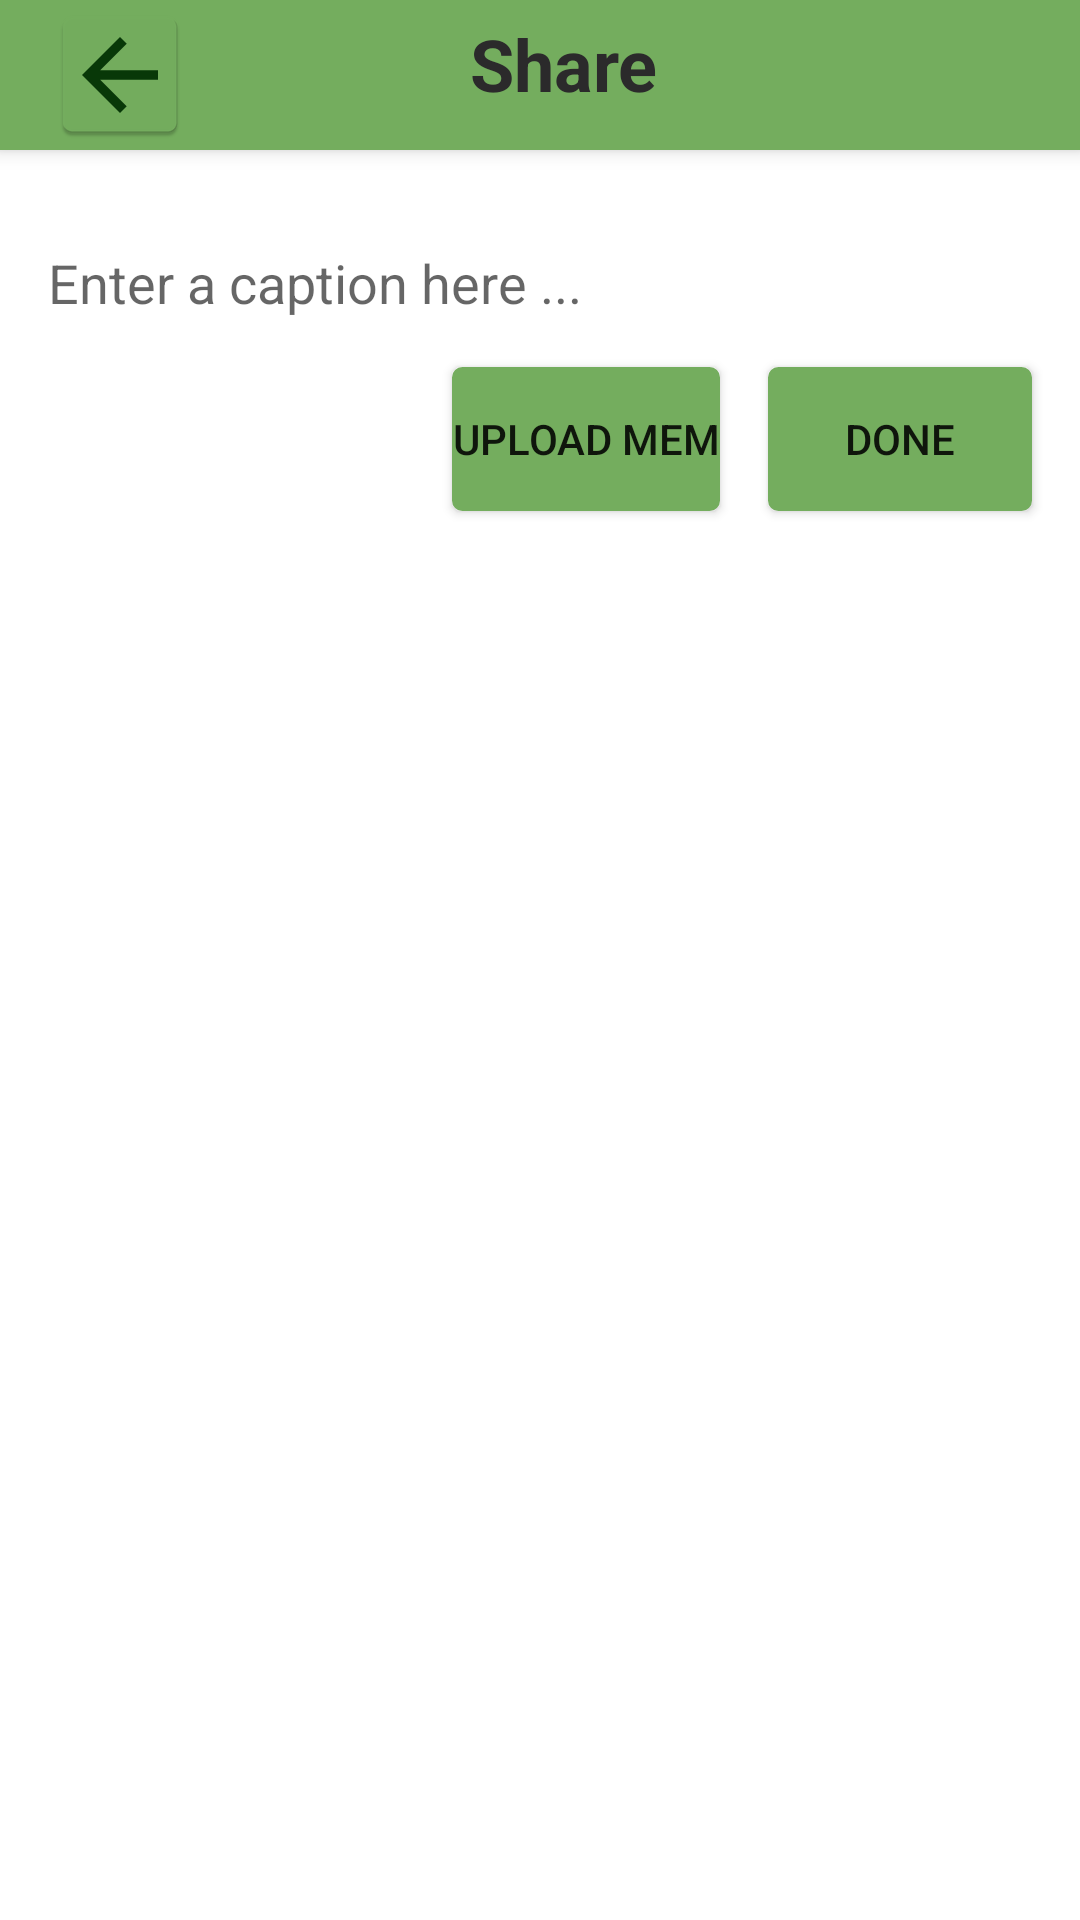

Point at icon controls on the screen. Image size 1080 x 1920, points as (x,y).
back: (120,86)
